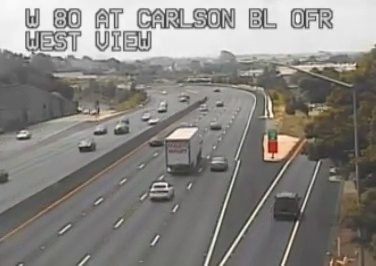car: (273, 193, 299, 218), (149, 182, 174, 200), (210, 156, 227, 169)
truck: (165, 127, 200, 173)
